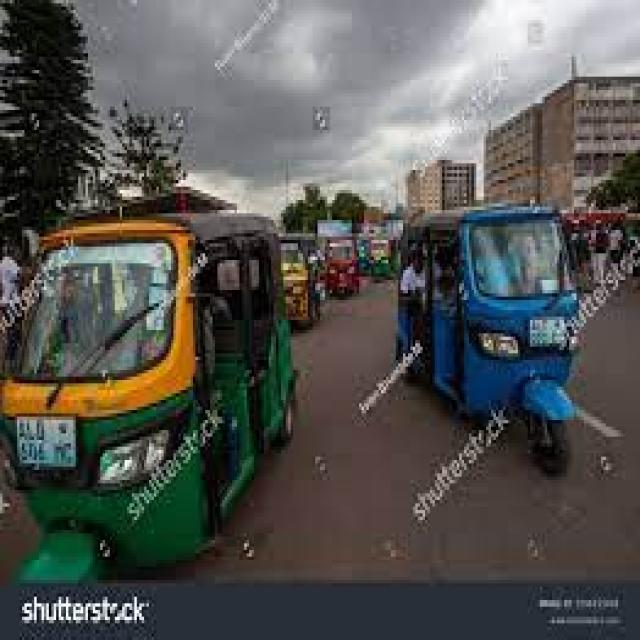person: (0, 257, 17, 300), (591, 250, 603, 283), (594, 227, 606, 250)
three wheeler: (0, 213, 288, 583), (398, 207, 576, 470), (327, 237, 357, 290), (371, 237, 388, 277)
